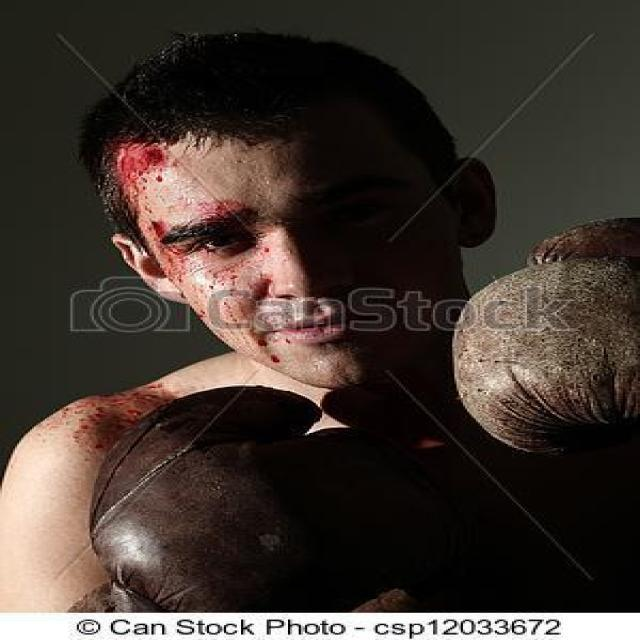flood: (115, 121, 309, 336)
